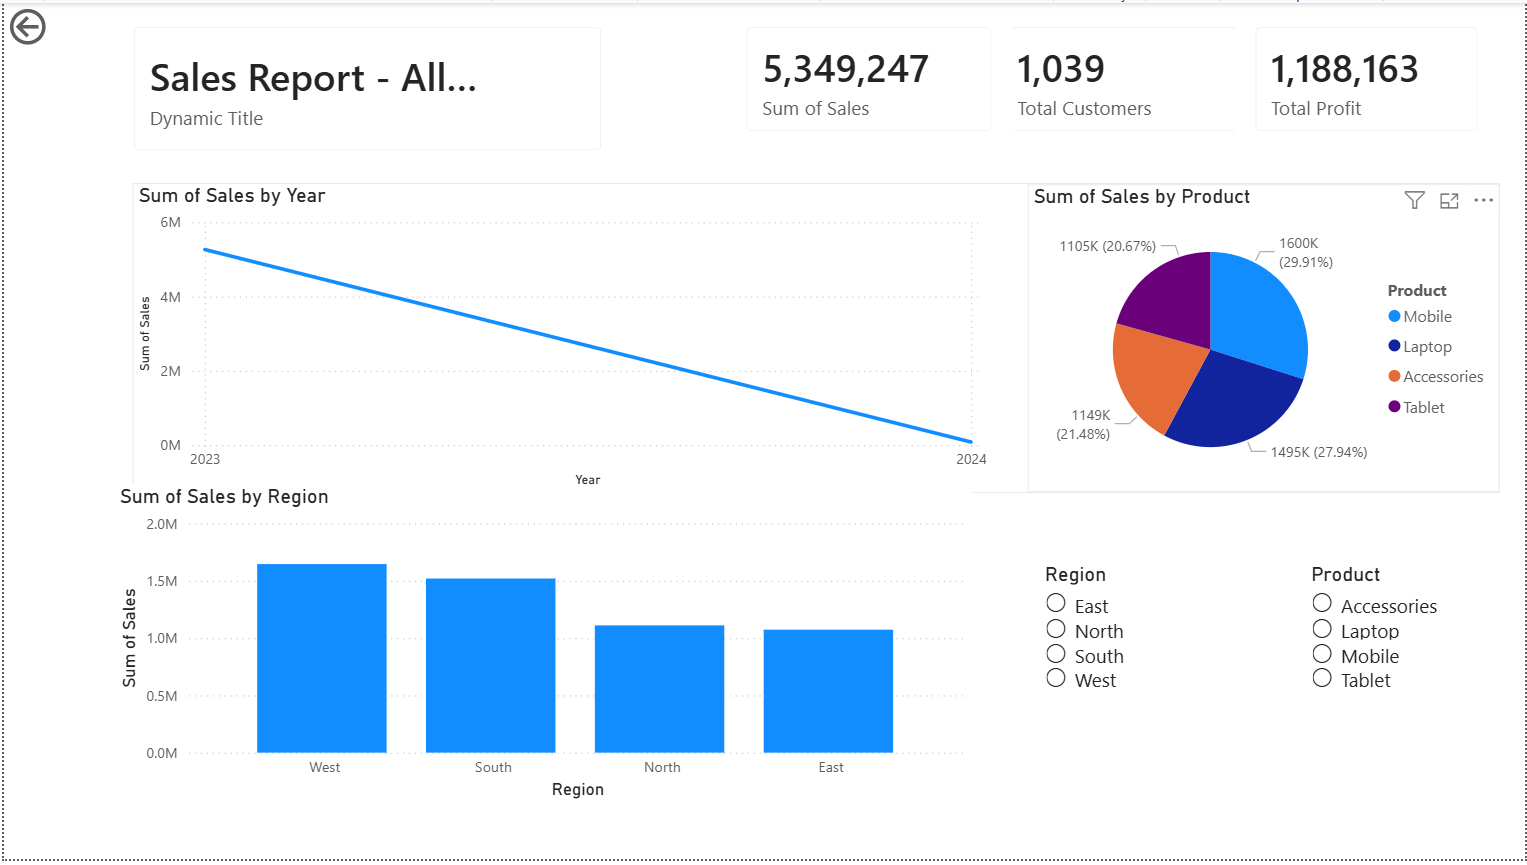

What the dashboard file says about the page in this screenshot:
{"tool":"powerbi","page":{"name":"Page 1","canvas":[1280,720],"ordinal":0},"visuals":[{"type":"actionButton","box":[0,0,100,40],"z":0},{"type":"cardVisual","fields":{"Data":["power_bi_sales_dataset.Total Customers"]},"box":[822.2,3.5,232.3,122.1],"z":0,"group":"g3"},{"type":"lineChart","fields":{"Y":["Sum(power_bi_sales_dataset.Sales)"],"Category":["power_bi_sales_dataset.Date.Variation.Date Hierarchy.Year","power_bi_sales_dataset.Date.Variation.Date Hierarchy.Quarter","power_bi_sales_dataset.Date.Variation.Date Hierarchy.Month","power_bi_sales_dataset.Date.Variation.Date Hierarchy.Day"]},"box":[108.1,151.2,723.3,260.5],"z":0,"group":"g1"},{"type":"cardVisual","fields":{"Data":["power_bi_sales_dataset.Total Profit"]},"box":[1036.6,3.5,221.5,122.1],"z":1000,"group":"g3"},{"type":"clusteredColumnChart","fields":{"Category":["power_bi_sales_dataset.Region"],"Y":["Sum(power_bi_sales_dataset.Sales)"]},"box":[93,404.7,722.1,269.8],"z":1000,"group":"g2"},{"type":"cardVisual","fields":{"Data":["Min(power_bi_sales_dataset.Total Sales)"]},"box":[607.9,3.5,240.7,122.1],"z":2000,"group":"g3"},{"type":"group","id":"g1","title":"Group 2","box":[108.1,151.2,1150,260.5],"z":2000},{"type":"pieChart","fields":{"Category":["power_bi_sales_dataset.Product"],"Y":["Sum(power_bi_sales_dataset.Sales)"]},"box":[860.4,151.8,397.7,259.3],"z":2000,"group":"g1"},{"type":"group","id":"g2","title":"Group 3","box":[93,404.7,1180.2,269.8],"z":3000},{"type":"listSlicer","fields":{"Values":["power_bi_sales_dataset.Product"]},"box":[1095.3,469.8,177.9,204.7],"z":4000,"group":"g2"},{"type":"listSlicer","fields":{"Values":["power_bi_sales_dataset.Region"]},"box":[870.9,469.8,168.6,204.7],"z":5000,"group":"g2"},{"type":"cardVisual","fields":{"Data":["power_bi_sales_dataset.Dynamic Title"]},"box":[93,3.5,427.5,138.4],"z":5005,"group":"g3"},{"type":"group","id":"g3","title":"Group 1","box":[93,3.5,1165.1,138.4],"z":5006}]}

Visuals, with their boxes in screenshot pixels (x1, y1, x2, y2), scaled from the page's 1280x720 canvas onto the 1527x865 screenshot:
actionButton: locate(0, 0, 119, 48)
cardVisual - power_bi_sales_dataset.Total Customers: locate(981, 4, 1258, 151)
lineChart - Sum(power_bi_sales_dataset.Sales) x power_bi_sales_dataset.Date.Variation.Date Hierarchy.Year: locate(129, 182, 992, 495)
cardVisual - power_bi_sales_dataset.Total Profit: locate(1237, 4, 1501, 151)
clusteredColumnChart - power_bi_sales_dataset.Region x Sum(power_bi_sales_dataset.Sales): locate(111, 486, 972, 810)
cardVisual - Min(power_bi_sales_dataset.Total Sales): locate(725, 4, 1012, 151)
"Group 2" group: locate(129, 182, 1501, 495)
pieChart - power_bi_sales_dataset.Product x Sum(power_bi_sales_dataset.Sales): locate(1026, 182, 1501, 494)
"Group 3" group: locate(111, 486, 1519, 810)
listSlicer - power_bi_sales_dataset.Product: locate(1307, 564, 1519, 810)
listSlicer - power_bi_sales_dataset.Region: locate(1039, 564, 1240, 810)
cardVisual - power_bi_sales_dataset.Dynamic Title: locate(111, 4, 621, 170)
"Group 1" group: locate(111, 4, 1501, 170)
